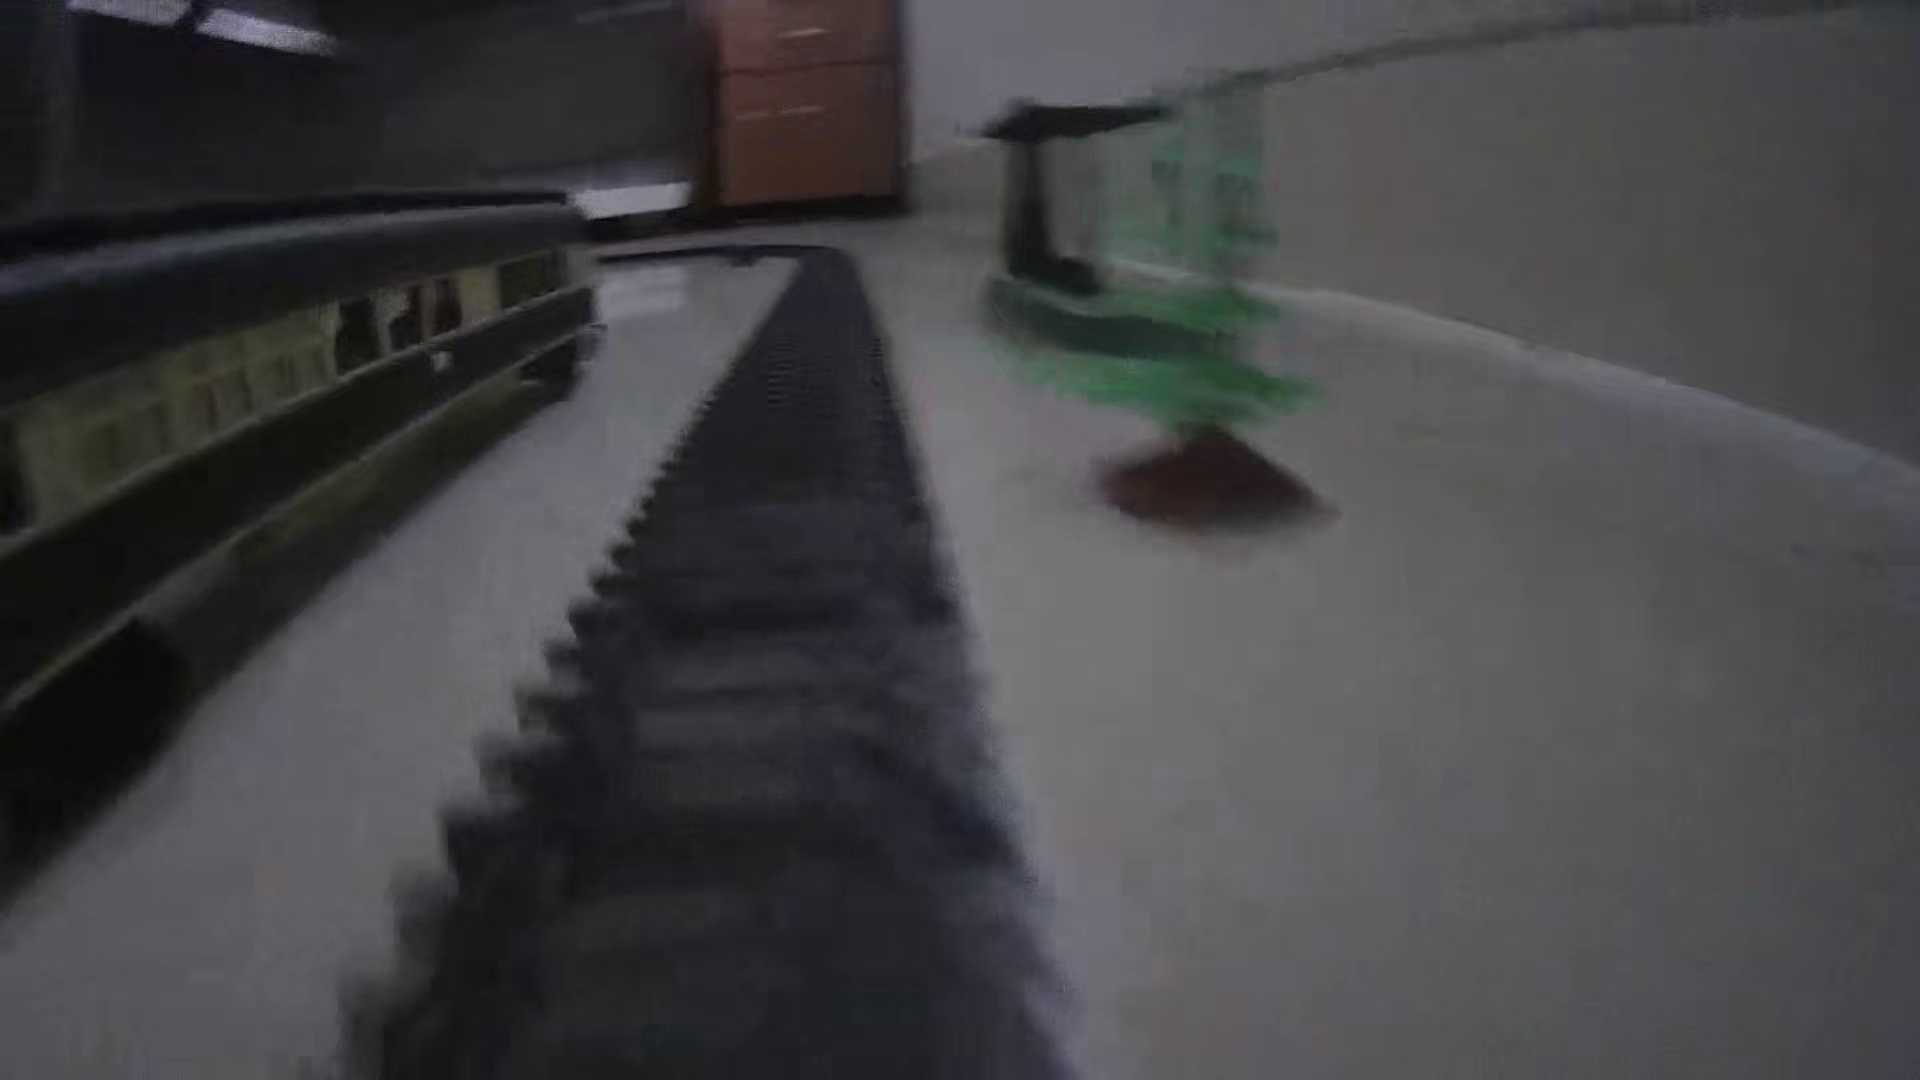tree: (1077, 87, 1338, 546)
